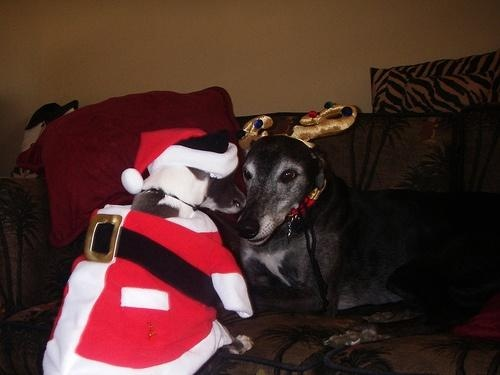dog: (237, 137, 500, 347), (50, 128, 255, 375)
sofa: (3, 112, 500, 375)
